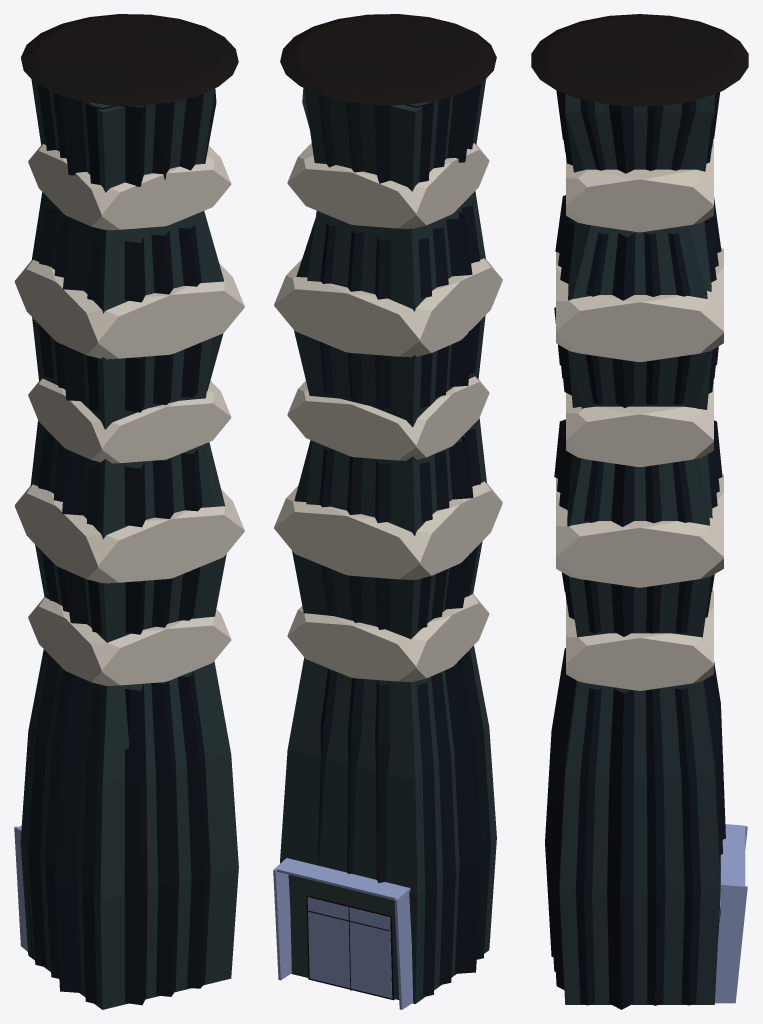
File: Skyscraper-2.obj
3 views of the same model, side by side, from view 1: azimuth 30°, elevation 25°; view 2: azimuth 150°, elevation 25°; view 3: azimuth 270°, elevation 25° (orthographic).
Parts seen in each view (by area): view 1: Cube.001, Cube, Cube.005, Cube.006, Torus.005, Cube.002, Cube.003, Cube.004, Torus.002, Torus.003, Cube.010; view 2: Cube, Cube.001, Cube.005, Cube.006, Torus.005, Cube.002, Cube.004, Cube.003, Cube.007, Cube.011, Torus.002, Cube.008 (+4 smaller); view 3: Cube.001, Cube, Torus.005, Cube.005, Cube.006, Cube.004, Cube.003, Cube.002, Cube.009, Torus.002, Cube.008, Torus.003.
Part boxes in pixels (x1=…): Cube.001: x1=25, y1=84, x2=210, y2=1005; Cube: x1=20, y1=79, x2=238, y2=1009; Cube.005: x1=14, y1=259, x2=244, y2=359; Cube.006: x1=14, y1=484, x2=244, y2=583; Torus.005: x1=21, y1=14, x2=238, y2=105; Cube.002: x1=28, y1=597, x2=231, y2=685; Cube.003: x1=28, y1=378, x2=231, y2=463; Cube.004: x1=28, y1=144, x2=231, y2=230; Torus.002: x1=72, y1=29, x2=186, y2=77; Torus.003: x1=89, y1=35, x2=169, y2=69; Cube.010: x1=14, y1=826, x2=27, y2=951; Cube: x1=280, y1=79, x2=496, y2=1003; Cube.001: x1=318, y1=83, x2=490, y2=999; Cube.005: x1=274, y1=258, x2=502, y2=357; Cube.006: x1=274, y1=481, x2=502, y2=579; Torus.005: x1=280, y1=14, x2=496, y2=105; Cube.002: x1=287, y1=594, x2=489, y2=682; Cube.004: x1=287, y1=143, x2=489, y2=228; Cube.003: x1=287, y1=376, x2=489, y2=460; Cube.007: x1=307, y1=897, x2=392, y2=998; Cube.011: x1=289, y1=874, x2=399, y2=998; Torus.002: x1=331, y1=28, x2=445, y2=76; Cube.008: x1=274, y1=858, x2=410, y2=900; Cube.001: x1=545, y1=90, x2=725, y2=1009; Cube: x1=559, y1=94, x2=720, y2=1004; Torus.005: x1=531, y1=14, x2=748, y2=106; Cube.005: x1=556, y1=248, x2=723, y2=361; Cube.006: x1=556, y1=474, x2=723, y2=587; Cube.004: x1=566, y1=138, x2=713, y2=232; Cube.003: x1=566, y1=379, x2=713, y2=466; Cube.002: x1=566, y1=590, x2=713, y2=690; Cube.009: x1=715, y1=885, x2=747, y2=1003; Torus.002: x1=582, y1=29, x2=697, y2=77; Cube.008: x1=720, y1=824, x2=745, y2=887; Torus.003: x1=599, y1=35, x2=680, y2=69.
Bounding box in the file's own units: 7.65 × 35.53 × 7.58.
